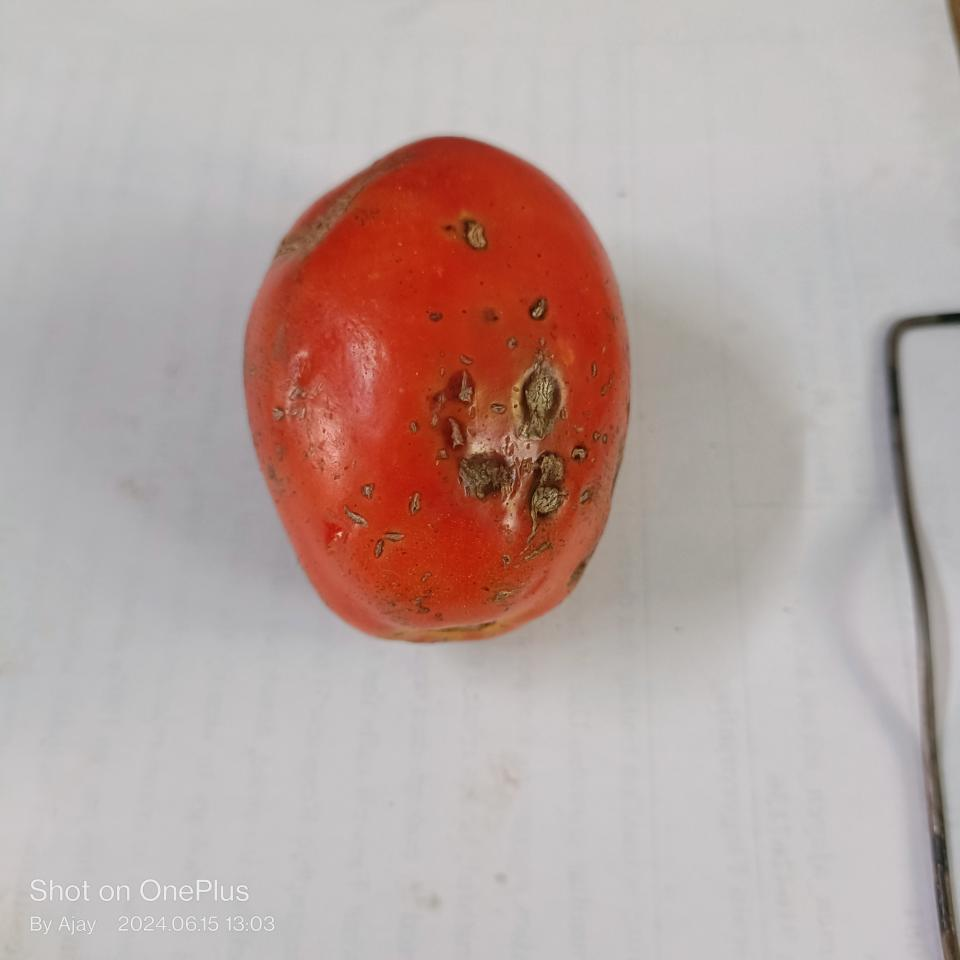Bacterial_Spot: (507, 360, 566, 441), (456, 442, 518, 493), (530, 453, 560, 520), (450, 216, 492, 252), (452, 369, 481, 407), (428, 416, 463, 439), (373, 532, 404, 555), (528, 297, 551, 322), (344, 509, 372, 528), (407, 490, 423, 517), (425, 306, 448, 324), (520, 545, 546, 557), (495, 587, 513, 601), (360, 483, 375, 497), (574, 446, 584, 459), (410, 420, 418, 432)
